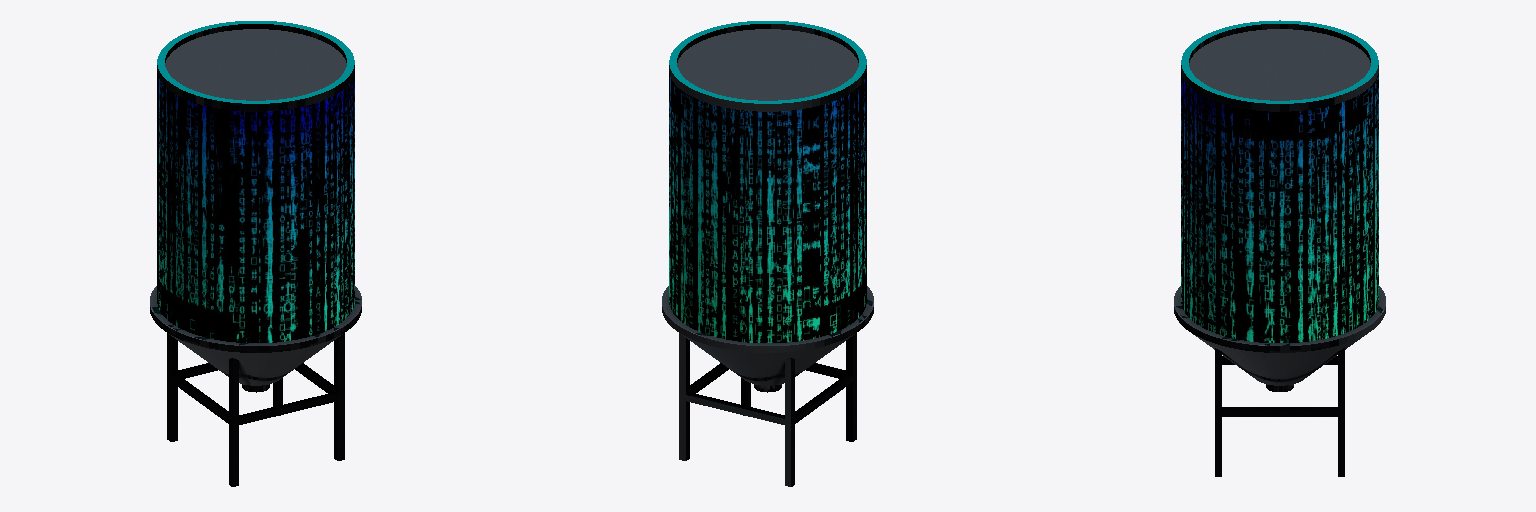
3 renders of one model, left to right at view 1: azimuth 30°, elevation 25°; view 2: azimuth 150°, elevation 25°; view 3: azimuth 270°, elevation 25°, orthographic.
Parts seen in each view (by area): view 1: Cylinder.001; view 2: Cylinder.001; view 3: Cylinder.001.
Part boxes in pixels (x1,y1,x2,y2): Cylinder.001: (150, 21, 361, 486); Cylinder.001: (662, 21, 873, 486); Cylinder.001: (1174, 20, 1385, 476).
Size of the model in its own units: 38.25 by 76.88 by 38.25.
Materials: 3 (1 with a texture image).